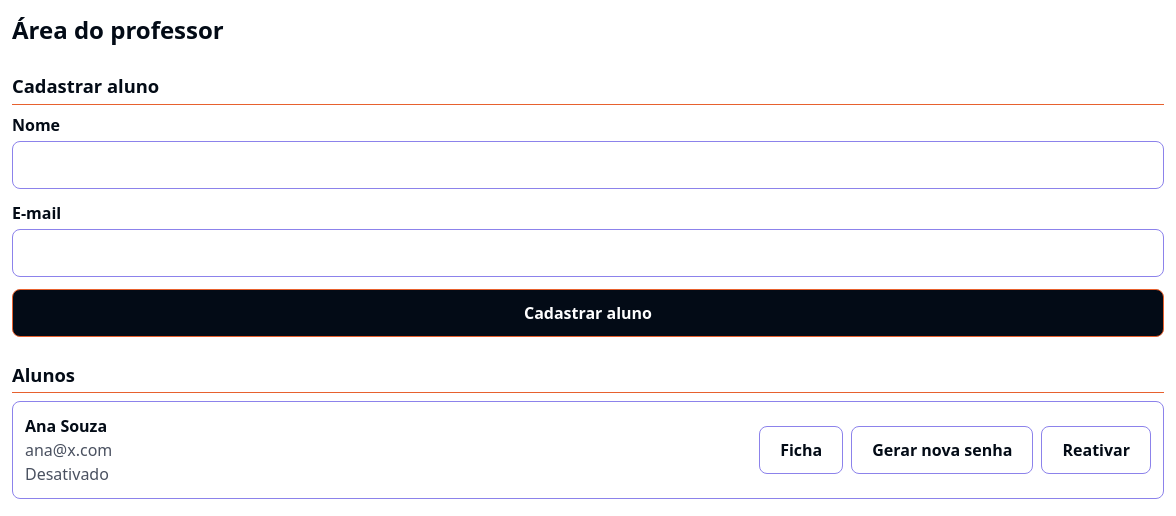
Test: AreaProfessor › reativa o aluno e atualiza a lista
expect the list item shows "Desativado": met, box [25,463,109,485]
Click the button "Reativar": (1096, 450) [1042,426,1151,474]
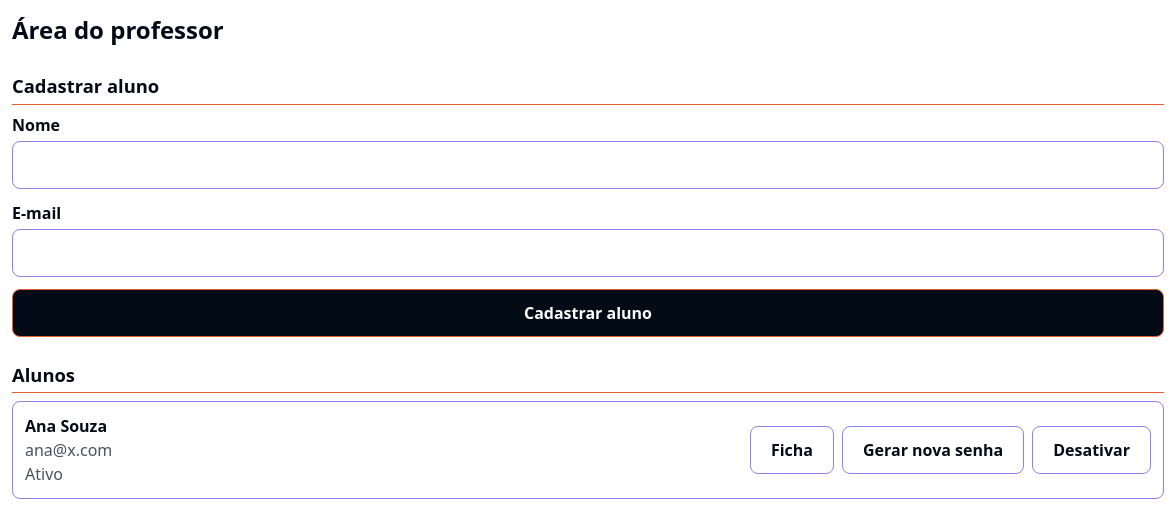
expect the text "Ativo" is shown: met, box [25,463,63,485]
expect the button "Desativar" is shown: met, box [1032,426,1151,474]
